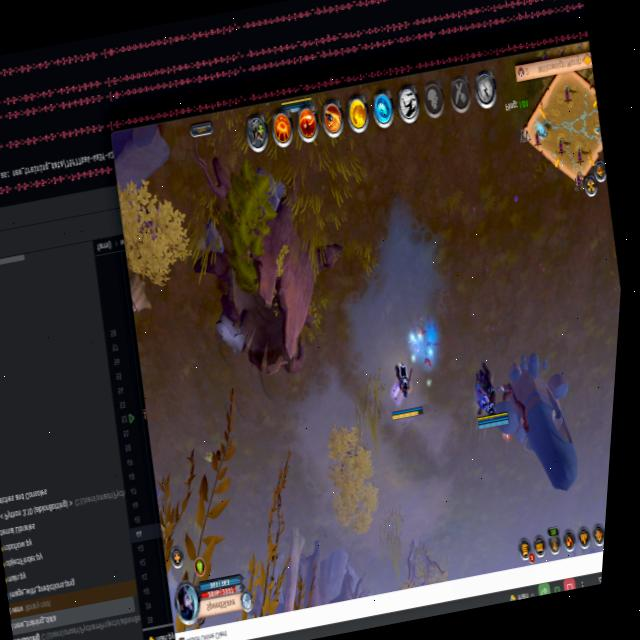red: (460, 349, 516, 437), (378, 348, 433, 422), (275, 91, 320, 125)
wisp caged: (262, 523, 325, 616)
